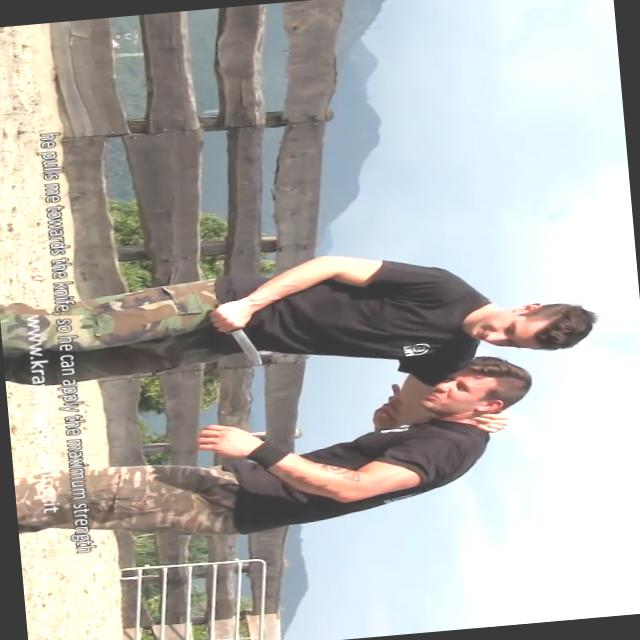knife: (202, 297, 272, 372)
